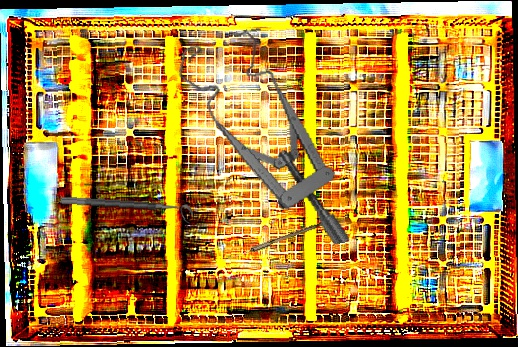Fixation Ring: (59, 195, 194, 225)
Speculum: (173, 17, 351, 268)
Surgical Spoon: (221, 215, 337, 265)
